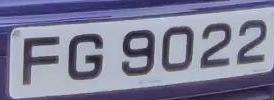0: (156, 20, 200, 76)
2: (194, 16, 237, 74), (228, 12, 272, 68)
9: (118, 23, 161, 83)
F: (16, 27, 67, 92)
G: (63, 28, 109, 88)
